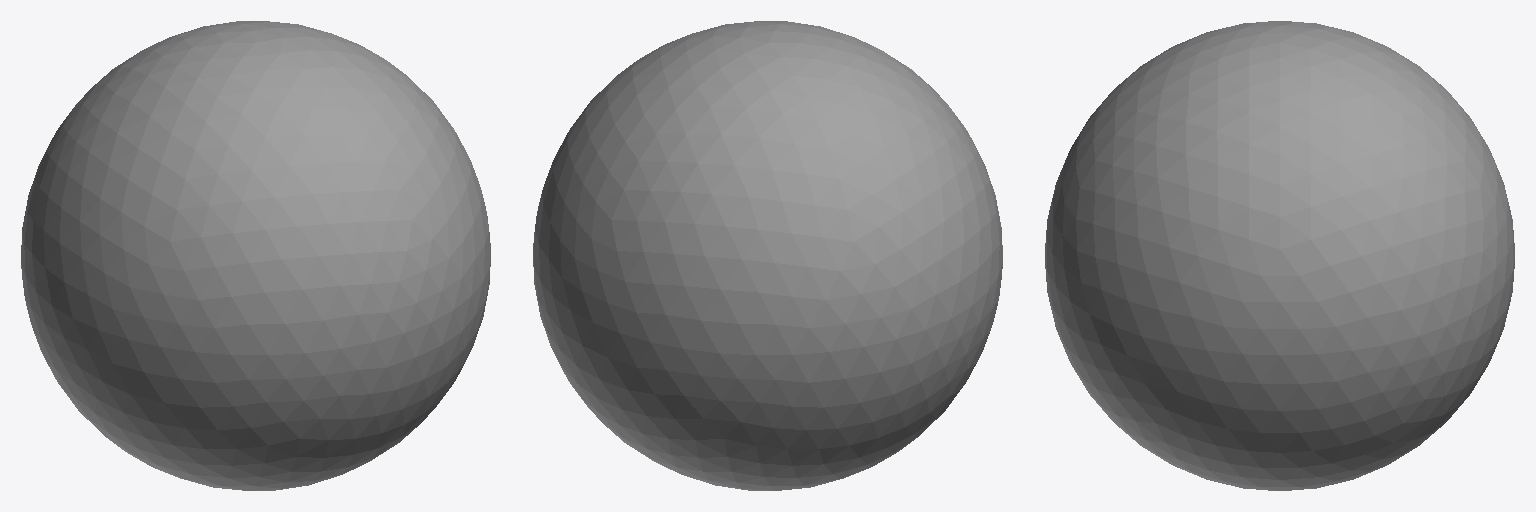
Rendered from burr2.obj.
3 renders of one model, left to right at view 1: azimuth 30°, elevation 25°; view 2: azimuth 150°, elevation 25°; view 3: azimuth 270°, elevation 25°, orthographic.
Visible parts, largest first — view 1: Sphere_Sphere_Material.002; view 2: Sphere_Sphere_Material.002; view 3: Sphere_Sphere_Material.002.
Boxes of the visible parts, x1=… form: Sphere_Sphere_Material.002: x1=21, y1=21, x2=490, y2=490; Sphere_Sphere_Material.002: x1=533, y1=21, x2=1002, y2=490; Sphere_Sphere_Material.002: x1=1045, y1=21, x2=1514, y2=490.
Bounding box in the file's own units: 0.04 × 0.04 × 0.04.